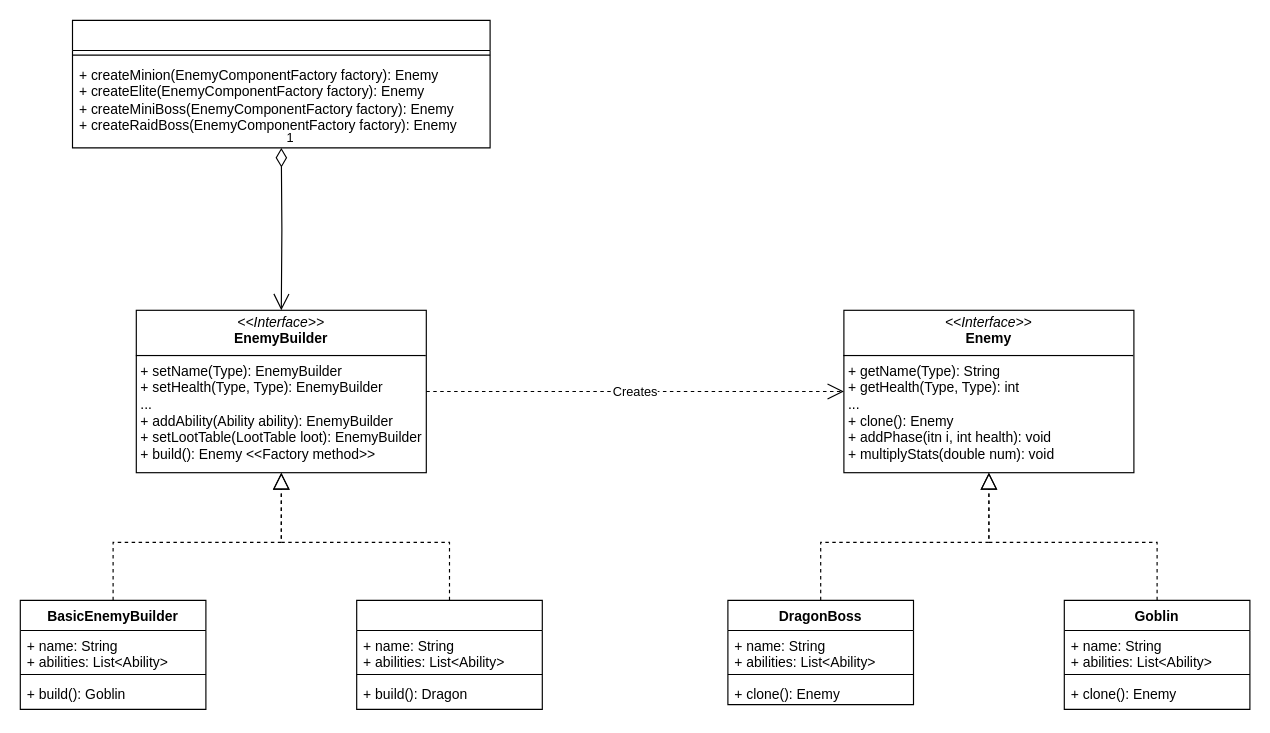
This 1270x733 diagram has some shape labels left out. Each missing label, with the box of its shape:
BossEnemyBuilder: (356, 599, 542, 709)
EnemyDirector: (71, 19, 490, 148)
